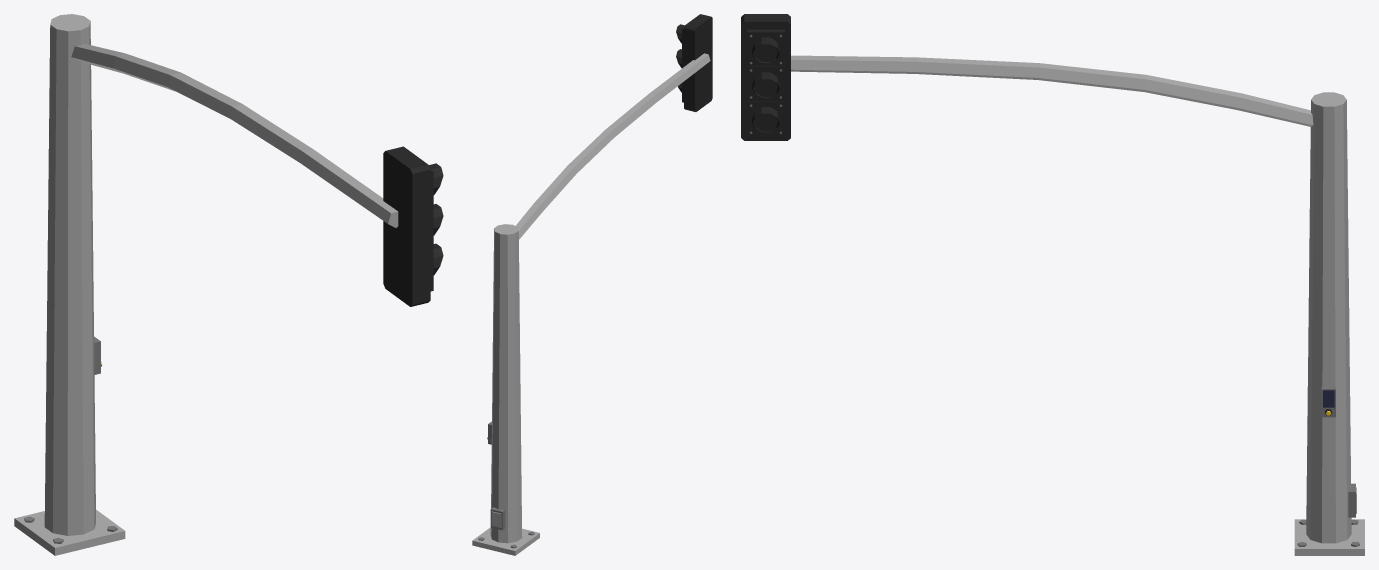
File: SM_traffic_lights_1.gltf
3 views of the same model, side by side, from view 1: azimuth 30°, elevation 25°; view 2: azimuth 150°, elevation 25°; view 3: azimuth 270°, elevation 25° (orthographic). The views are drawn at different scales.
Visible parts, largest first — view 1: SM_traffic_lights_1; view 2: SM_traffic_lights_1; view 3: SM_traffic_lights_1.
Boxes of the visible parts, bbox=[...] form: SM_traffic_lights_1: bbox=[14, 14, 443, 555]; SM_traffic_lights_1: bbox=[472, 14, 712, 555]; SM_traffic_lights_1: bbox=[741, 14, 1364, 555].
Size of the model in its own units: 0.6968 by 5.18 by 5.55.
Materials: 1 (1 with a texture image).
